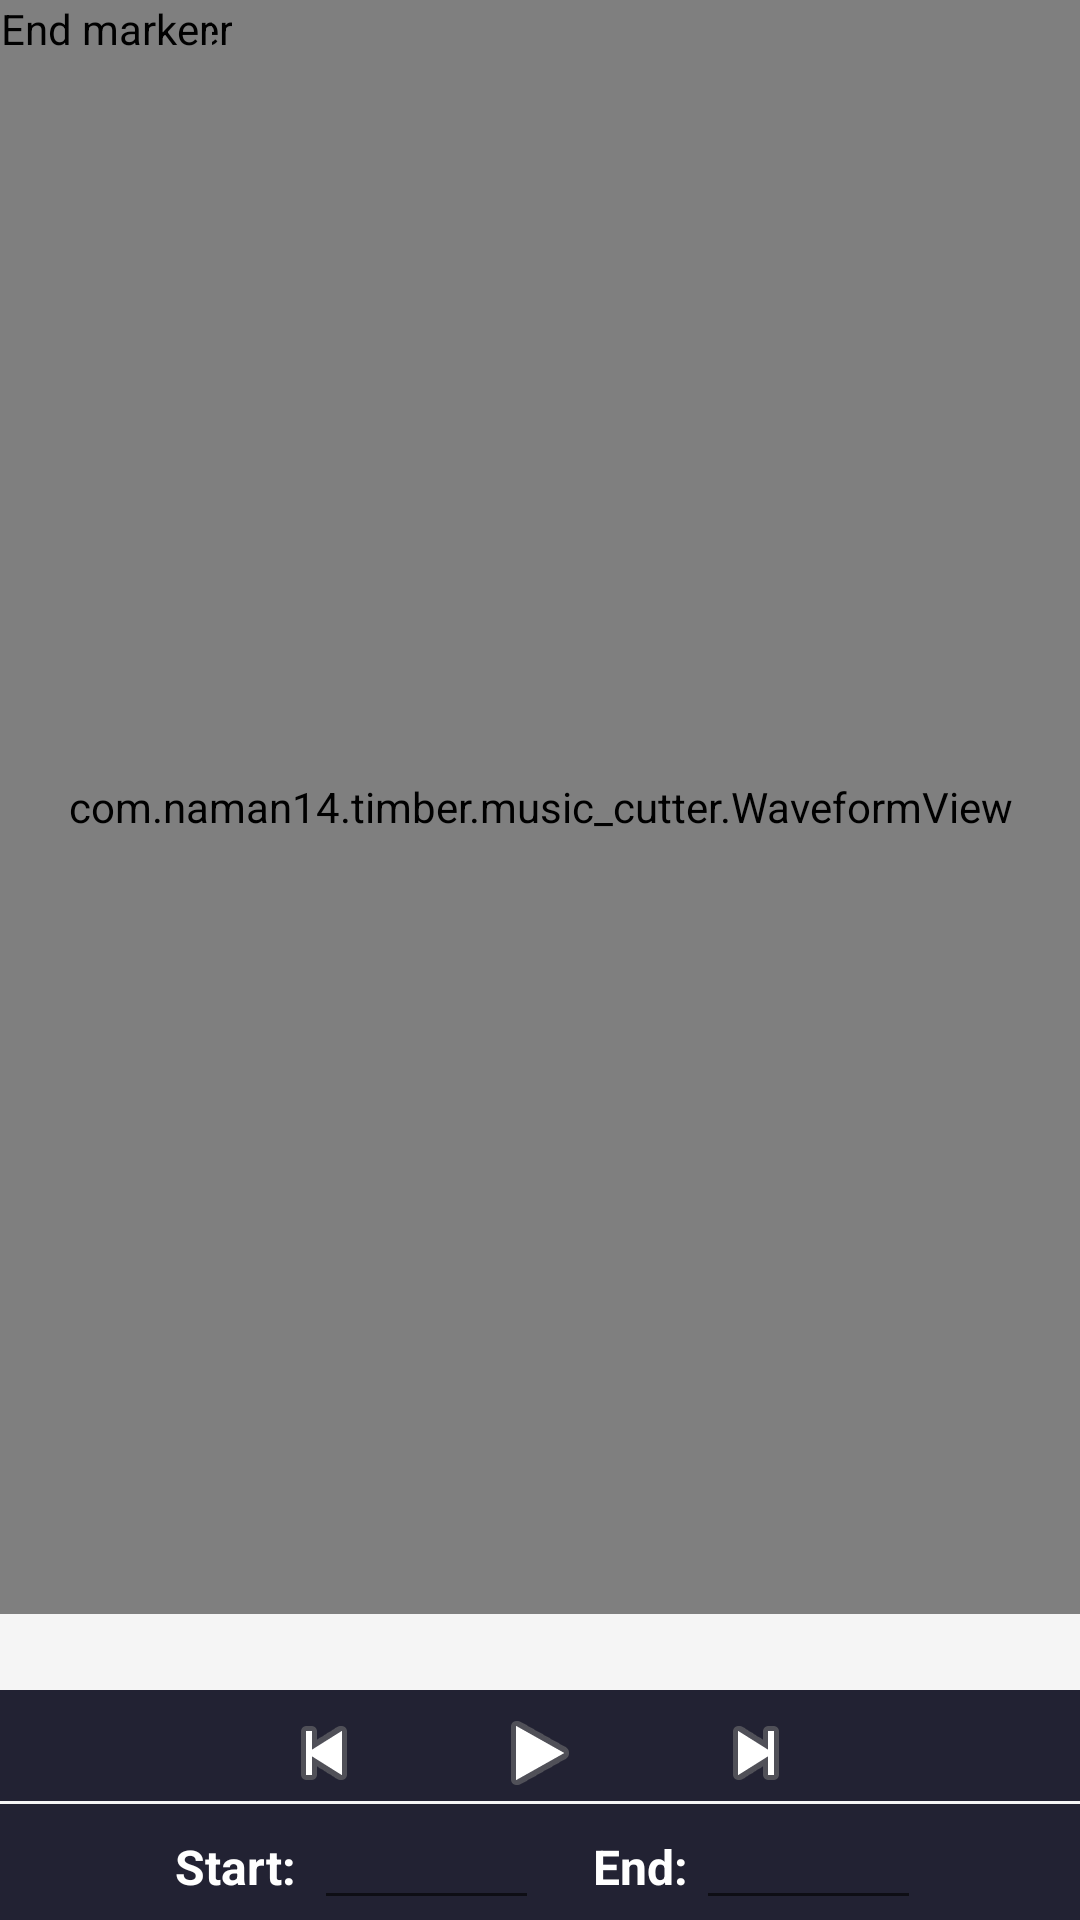

Locate icon controls on the screen. Image size 1080 x 1920, boxes as (x1, y1, x2, y2).
Play: (511, 1721, 569, 1785)
